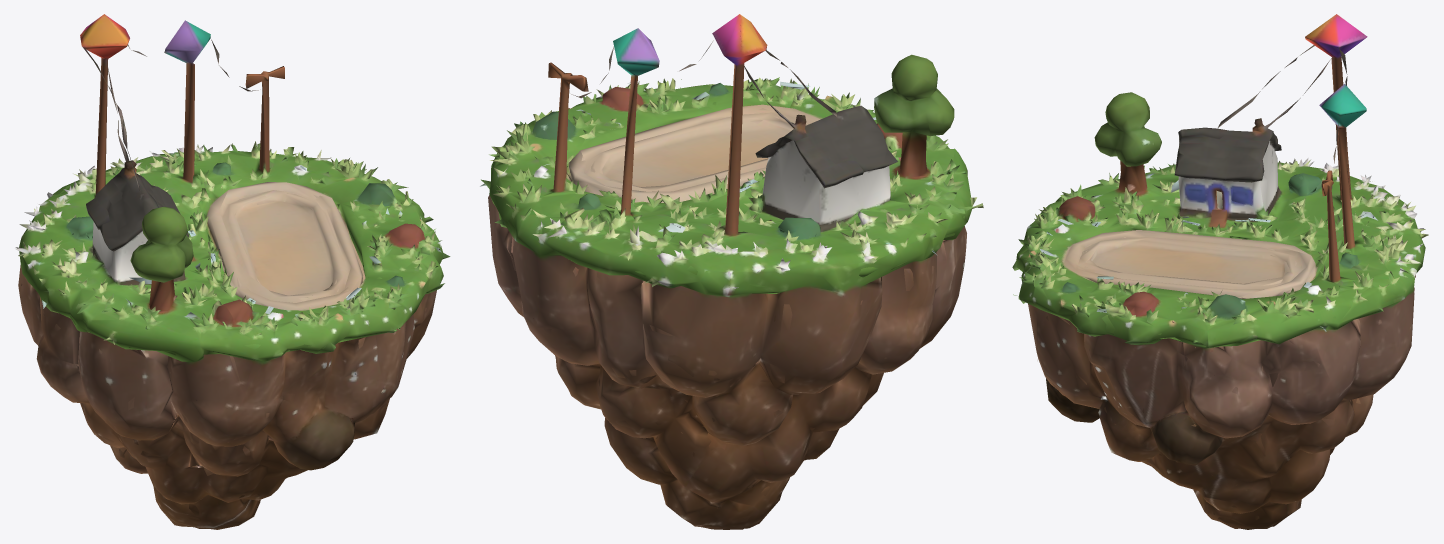
Rendered from isle-kite-fell.glb.
3 renders of one model, left to right at view 1: azimuth 30°, elevation 25°; view 2: azimuth 150°, elevation 25°; view 3: azimuth 270°, elevation 25°, orthographic. The views are drawn at different scales.
Size of the model in its own units: 12 by 14.96 by 11.93.
Materials: 1 (1 with a texture image).
